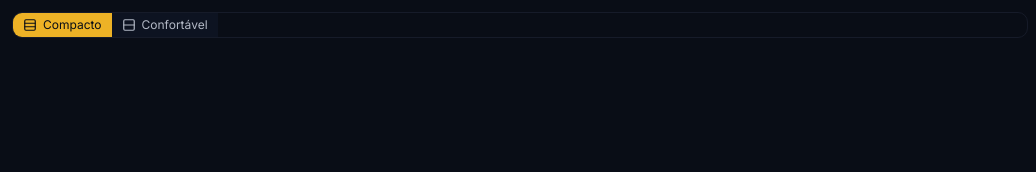
it: DensityToggle › ao clicar em Confortável muda o estado ativo e persiste
Click the button "Confortável".
click(164, 25)  # box [112,13,218,37]
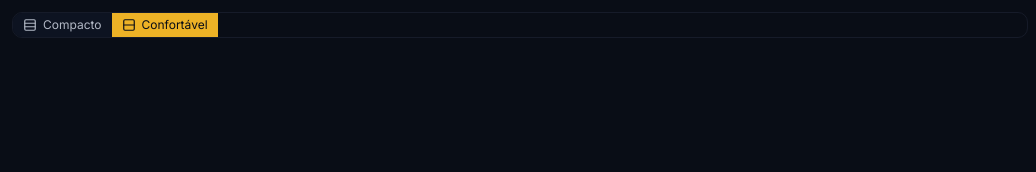
Now the button "Confortável" is pressed, box [112,13,218,37]
Now the button "Confortável" has class "bg-primary", box [112,13,218,37]
